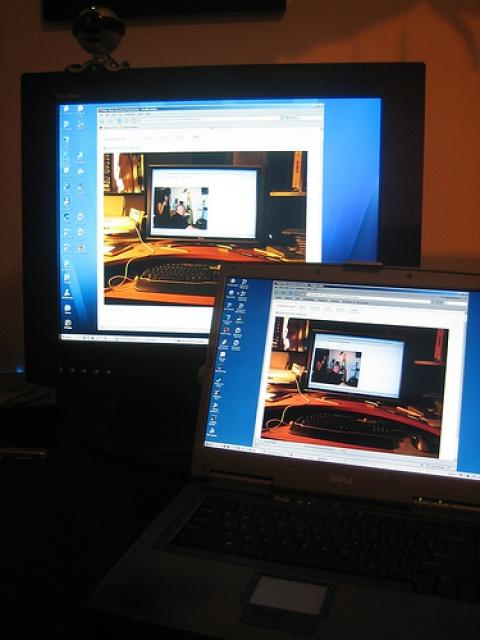AIO PC-Monitor-TV: (21, 59, 425, 389)
